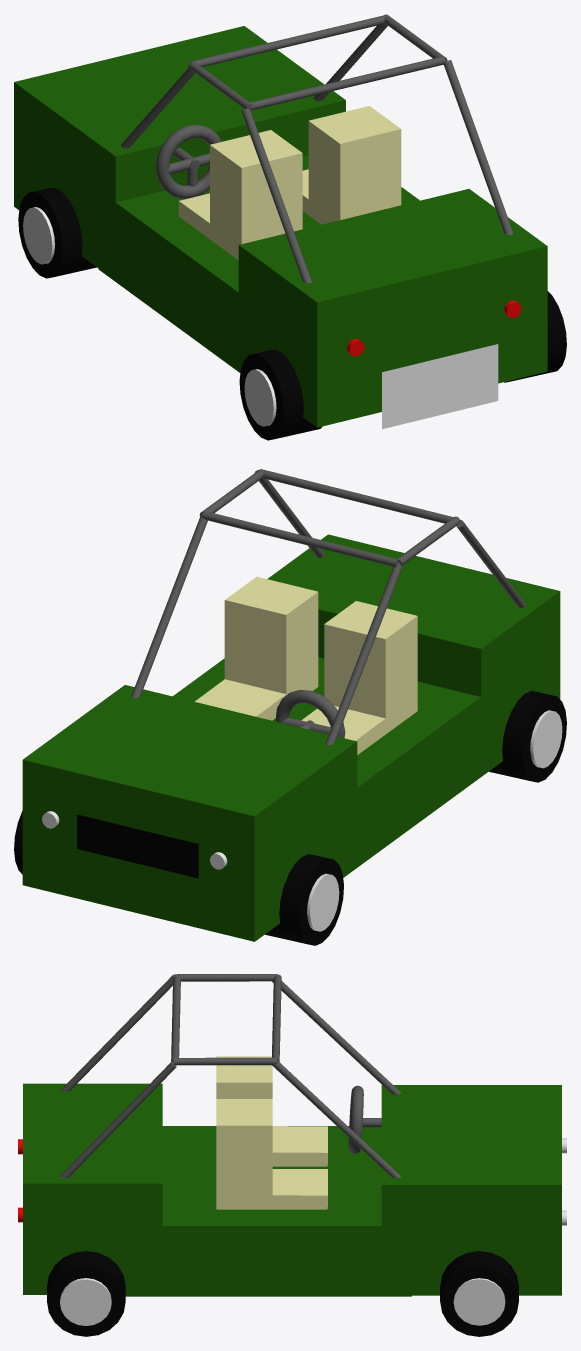
File: Jeep.fbx
3 views of the same model, one above another, from view 1: azimuth 30°, elevation 25°; view 2: azimuth 150°, elevation 25°; view 3: azimuth 270°, elevation 25° (orthographic). The views are drawn at different scales.
Visible parts, largest first — view 1: pCube3, pCube2, pCube1, pCube6, pCube4, pPlane2, pCylinder19, pCylinder18, pTorus1, pCylinder9, pCylinder8, pCylinder7 (+9 smaller); view 2: pCube2, pCube3, pCube1, pCube6, pCube4, pPlane1, pCylinder18, pCylinder19, pCube7, pCube5, pCylinder8, pCylinder1 (+9 smaller); view 3: pCube1, pCube2, pCube3, pCube6, pCylinder17, pCylinder20, pCube7, pCube5, pCube4, pCylinder24, pCylinder21, pCylinder2 (+8 smaller).
Part boxes in pixels (<box>): pCube3: <box>238,189,547,427</box>; pCube2: <box>14,26,345,280</box>; pCube1: <box>98,155,419,382</box>; pCube6: <box>308,106,401,224</box>; pCube4: <box>210,130,302,259</box>; pPlane2: <box>382,344,498,429</box>; pCylinder19: <box>239,349,322,440</box>; pCylinder18: <box>18,187,96,278</box>; pTorus1: <box>156,124,221,198</box>; pCylinder9: <box>249,56,445,110</box>; pCylinder8: <box>190,15,385,67</box>; pCylinder7: <box>241,108,311,283</box>; pCube2: <box>22,685,357,941</box>; pCube3: <box>267,534,560,774</box>; pCube1: <box>173,652,542,877</box>; pCube6: <box>224,576,318,694</box>; pCube4: <box>324,601,417,733</box>; pPlane1: <box>77,814,198,878</box>; pCylinder18: <box>265,854,343,945</box>; pCylinder19: <box>489,691,566,782</box>; pCube7: <box>194,679,286,720</box>; pCube5: <box>301,696,417,754</box>; pCylinder8: <box>202,511,398,566</box>; pCylinder1: <box>325,562,403,745</box>; pCube1: <box>53,1126,411,1296</box>; pCube2: <box>381,1085,561,1295</box>; pCube3: <box>23,1083,162,1294</box>; pCube6: <box>216,1099,272,1209</box>; pCylinder17: <box>440,1251,518,1336</box>; pCylinder20: <box>47,1251,125,1336</box>; pCube7: <box>217,1169,327,1209</box>; pCube5: <box>272,1126,327,1166</box>; pCube4: <box>216,1056,272,1098</box>; pCylinder24: <box>60,1278,111,1325</box>; pCylinder21: <box>453,1278,505,1325</box>; pCylinder2: <box>272,1061,401,1178</box>.
Size of the model in its own units: 4.97 by 4.72 by 9.22.
